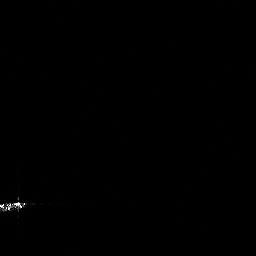ship: (1, 195, 36, 216)
